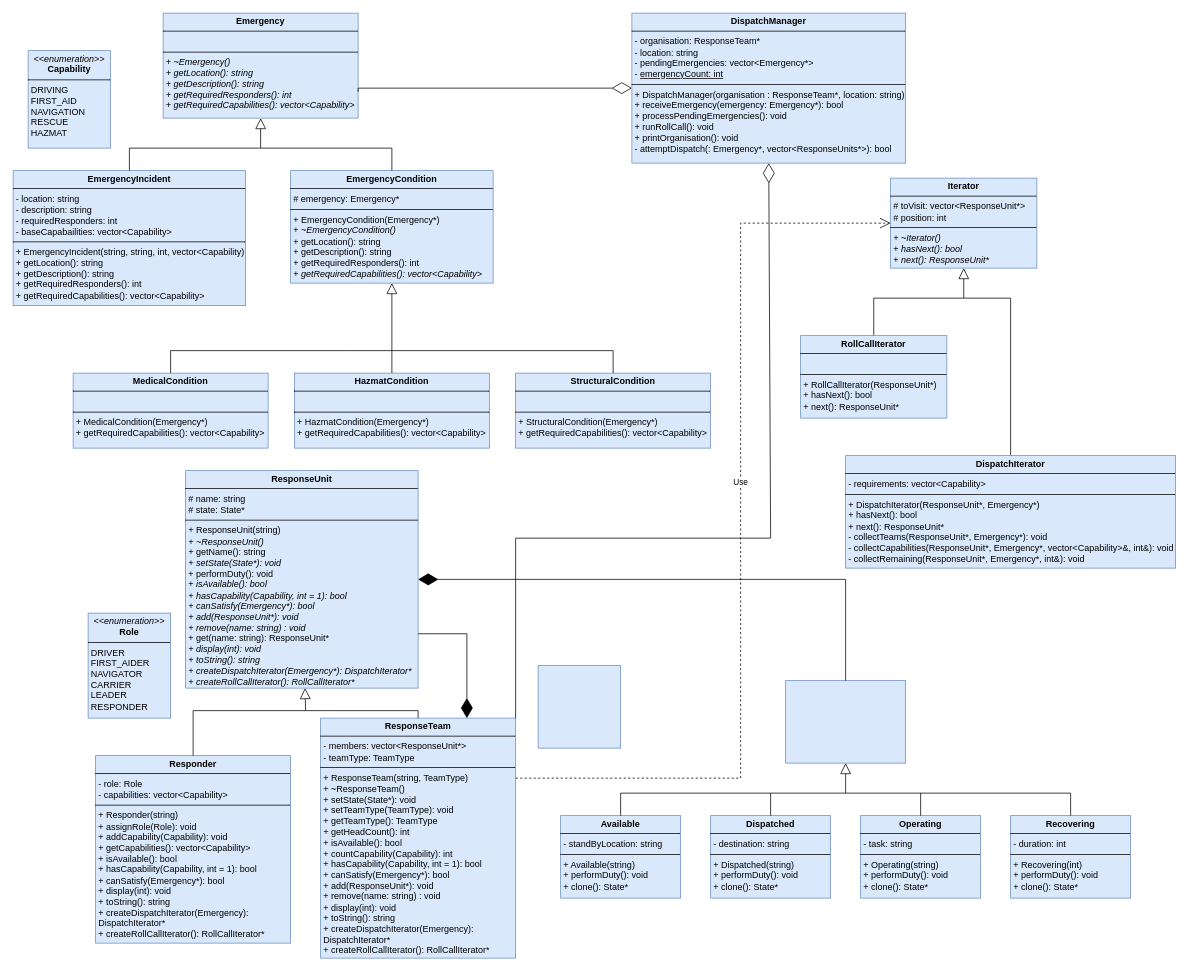
Image size: 1189x971. Some labels were removed from this diagram. The shapes that lost their labels are listed below. From the top down, each one's centre as x and y in pixels, then its label:
At point 579,706: "<<enumeration>> TeamType MEDICAL RESCUE TRANSPORT HAZMAT".
At point 845,721: "State + ~State() + performDuty(): void + clone(): State*".
